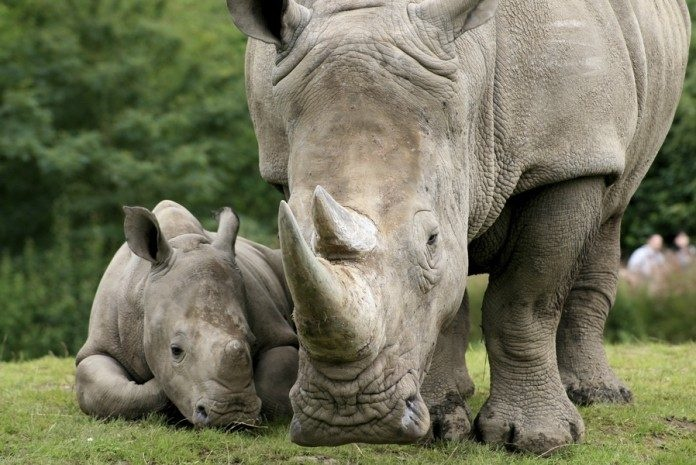rhino: (226, 0, 694, 452), (73, 195, 300, 429)
